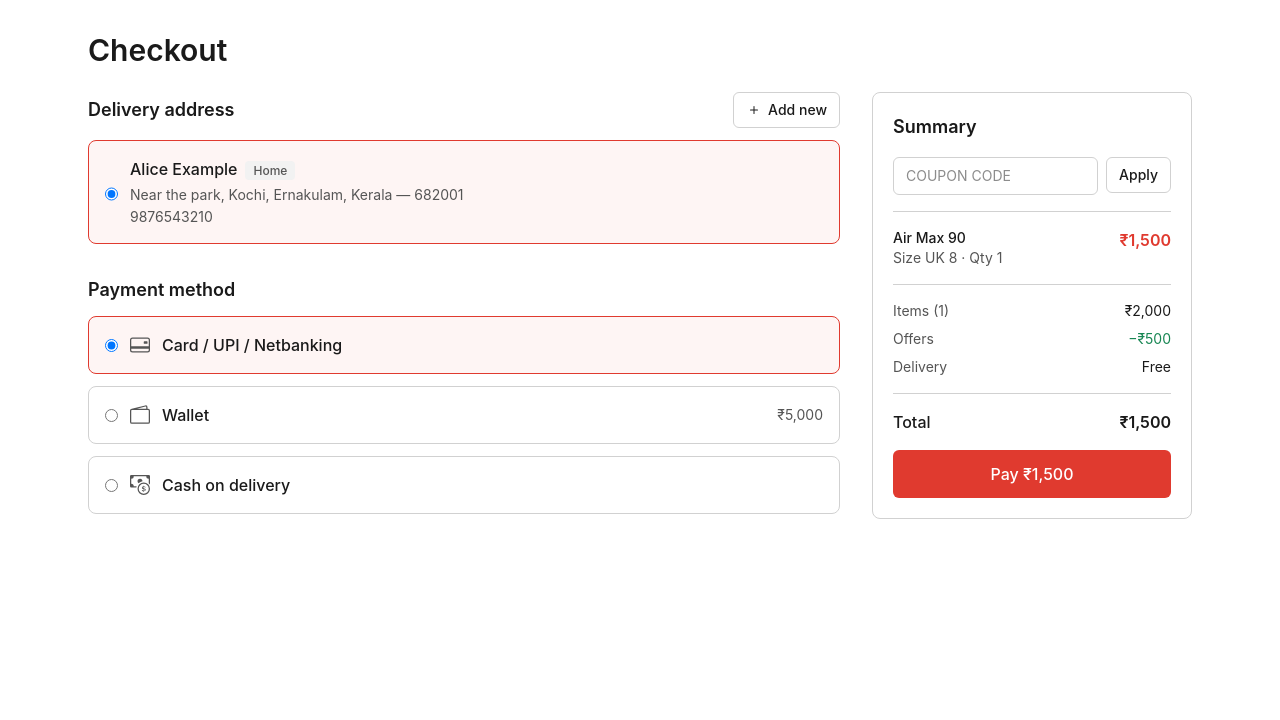
Test: CheckoutPage › opens the address dialog with the states loaded
Check: the text "₹2,000" is shown, box [1125,301,1171,321]
Click the button "Add new": (787, 110) [733,92,840,128]
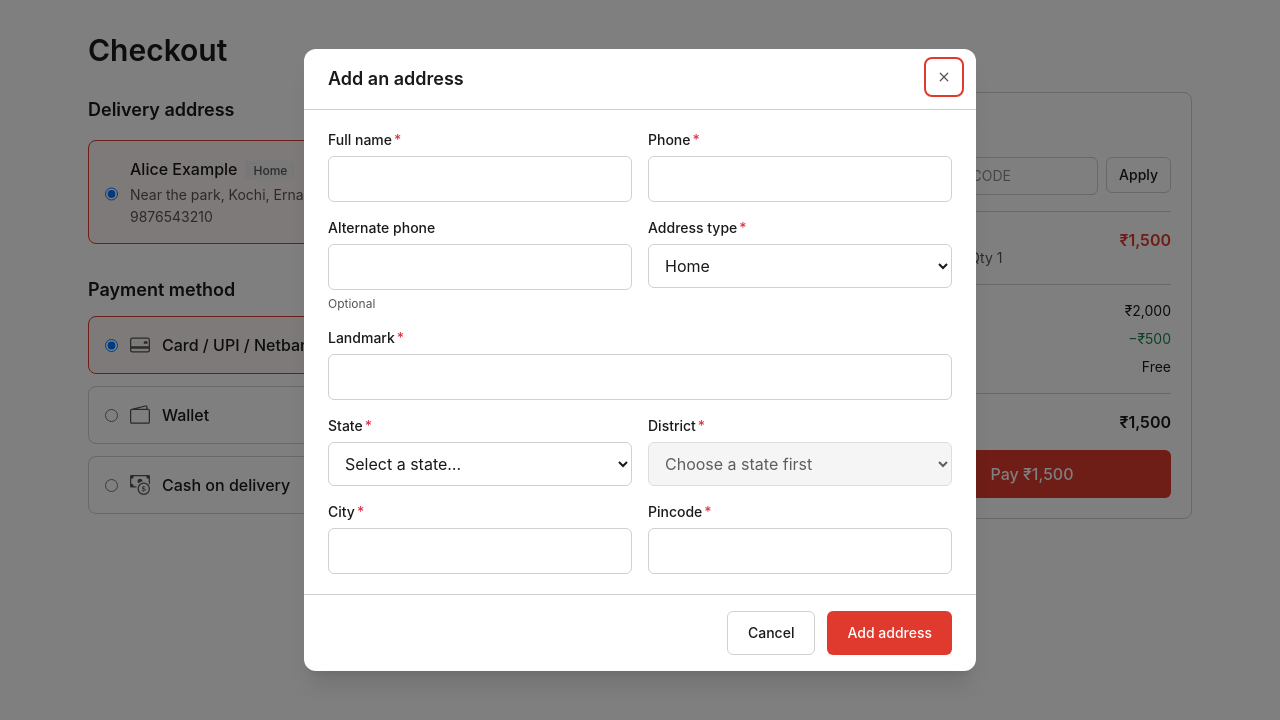
Check: the dialog is shown, box [304,49,976,671]
